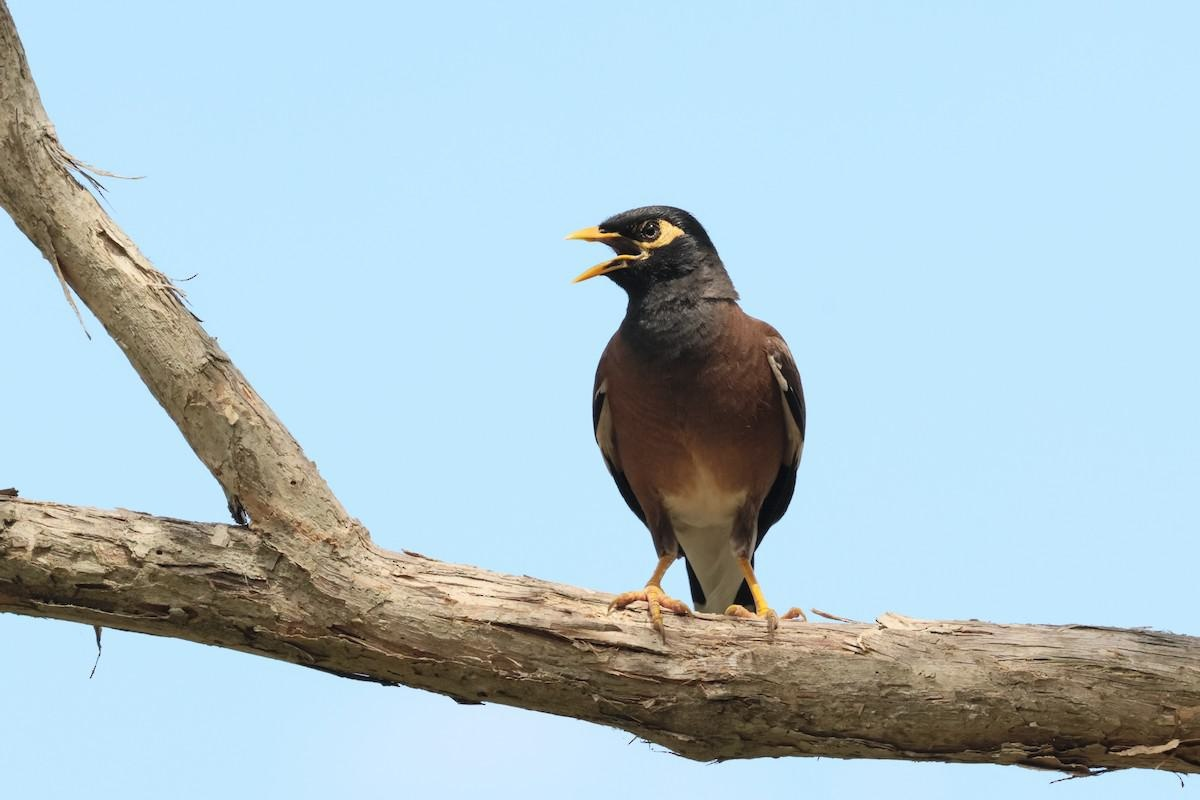myna: (586, 178, 870, 640)
